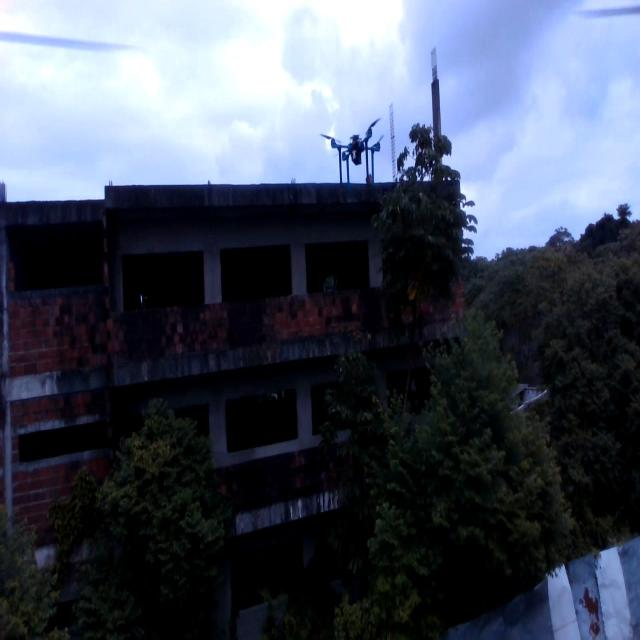-uav-: (315, 110, 393, 198)
